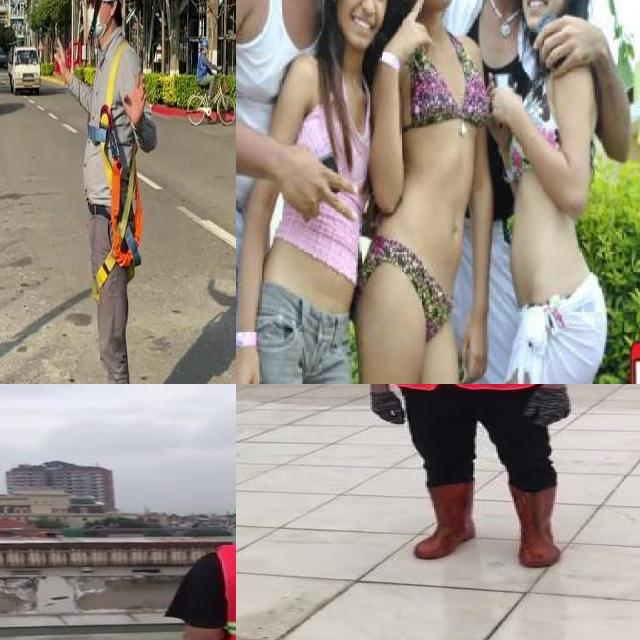Harness: (89, 40, 143, 302)
boots: (412, 481, 477, 559), (507, 484, 567, 567)
face_nomask: (343, 0, 390, 35), (517, 0, 561, 17)
hand_glove: (522, 386, 570, 430), (368, 390, 406, 426)
hand_noglove: (273, 139, 364, 231), (530, 5, 606, 74), (382, 0, 436, 62), (452, 319, 498, 384), (479, 80, 532, 131), (236, 336, 269, 384)
person: (238, 0, 392, 384), (236, 0, 372, 384), (337, 384, 598, 571), (361, 0, 481, 384), (442, 0, 547, 384), (502, 0, 605, 384), (158, 445, 236, 640)
